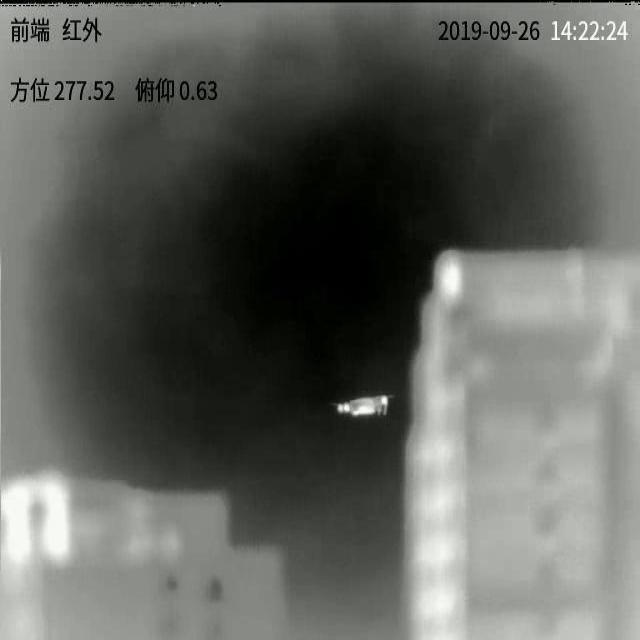drone: (331, 395, 394, 417)
